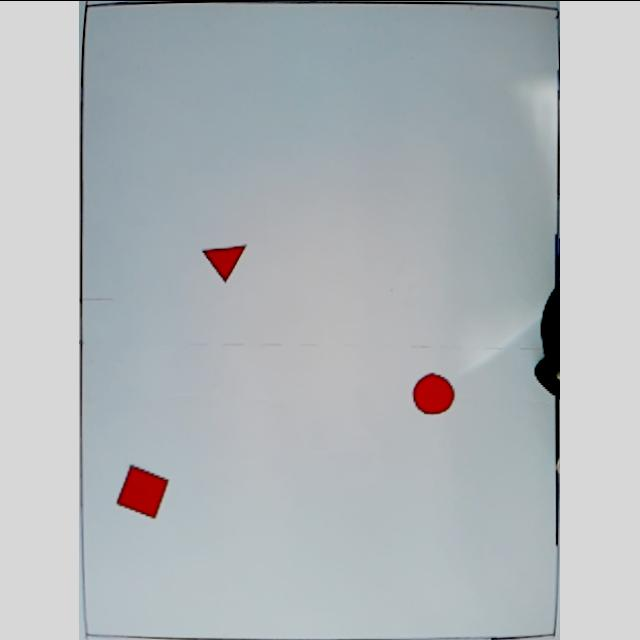redCircle: (413, 370, 459, 416)
redSquare: (115, 464, 173, 520)
redTriangle: (200, 240, 252, 284)
